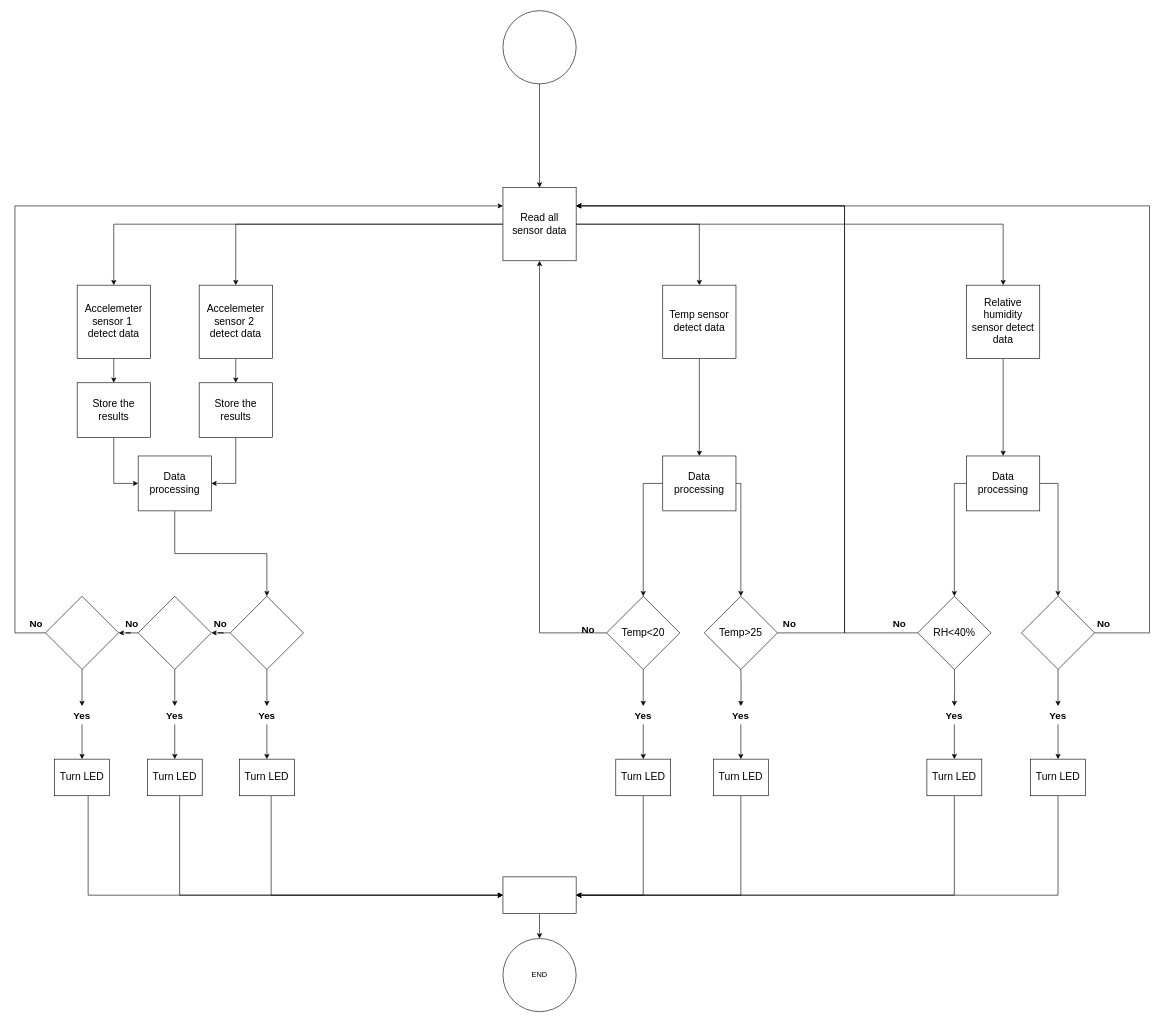
The diagram is 1165 pixels wide and 1022 high, and some of its shapes have lost their labels. Each missing label, with the centre of its shape:
"Buzzer" goes at pixel 539 894.
"Relative acceleration >0.5" goes at pixel 82 632.
"Relative acceleration >1.5" goes at pixel 174 632.
"Relative acceleration >3" goes at pixel 266 632.
"RH>60%" goes at pixel 1058 632.
"START" goes at pixel 539 47.
